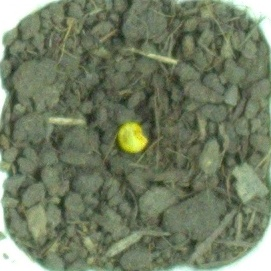pepper seed: (40, 43, 190, 198)
